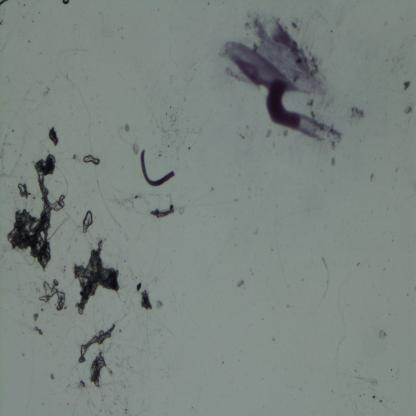Air bubble: (37, 276, 67, 312), (16, 180, 32, 202), (82, 152, 101, 166), (82, 210, 93, 233), (62, 0, 71, 6), (0, 0, 8, 6), (72, 153, 78, 160)
Background material: (2, 152, 66, 266), (71, 237, 121, 316), (77, 325, 118, 365), (156, 102, 192, 146), (88, 352, 110, 386), (147, 199, 176, 220), (47, 123, 60, 148), (140, 289, 154, 310), (349, 102, 364, 120), (73, 376, 86, 391), (328, 154, 339, 169), (32, 326, 45, 338), (403, 79, 413, 94), (123, 121, 134, 133), (134, 281, 145, 293), (43, 84, 52, 98), (402, 106, 414, 116), (133, 142, 142, 155), (231, 280, 245, 288), (32, 310, 40, 323), (378, 326, 386, 338), (47, 370, 55, 382), (368, 171, 375, 183), (155, 301, 162, 311), (124, 407, 128, 416), (378, 397, 382, 405), (372, 393, 376, 400), (0, 19, 4, 26), (188, 145, 192, 151), (12, 127, 15, 133), (28, 39, 30, 44), (38, 11, 41, 14), (22, 4, 26, 6), (32, 20, 34, 23), (23, 16, 25, 19)
Glass filter fibre: (317, 250, 332, 304), (346, 372, 378, 387)
Microfibre: (139, 148, 177, 189)
Pen: (219, 10, 346, 144)
